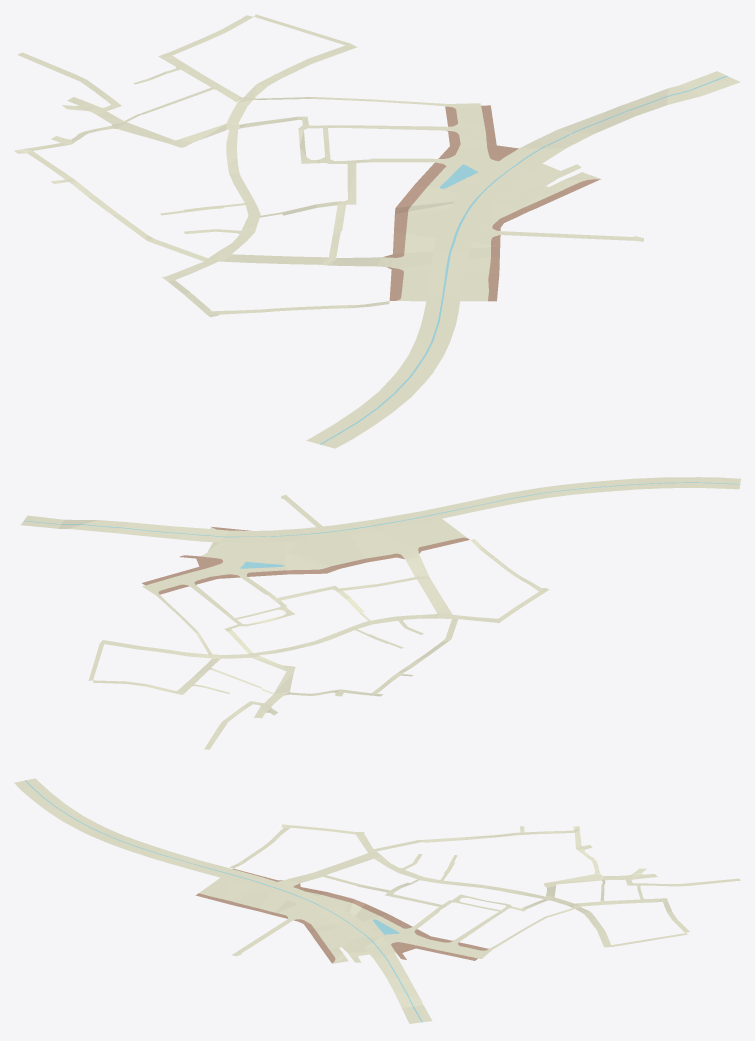
The model's file is data89.glb.
The picture shows the model from 3 angles, top to bottom: view 1: azimuth 30°, elevation 25°; view 2: azimuth 150°, elevation 25°; view 3: azimuth 270°, elevation 25°; orthographic projection. The views are drawn at different scales.
Size of the model in its own units: 385 by 19.67 by 490.
